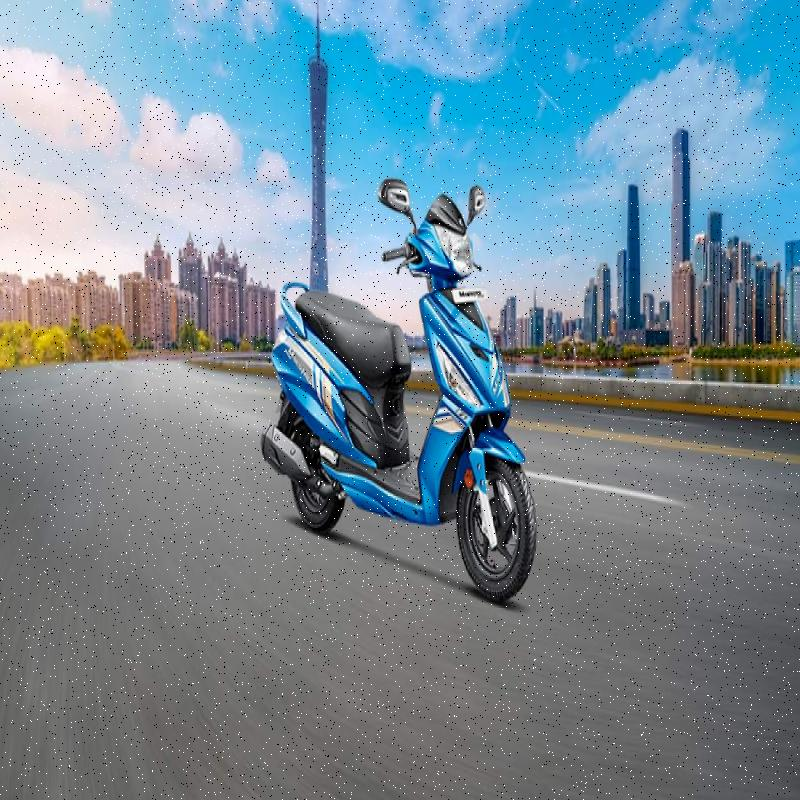bike: (257, 143, 548, 642)
